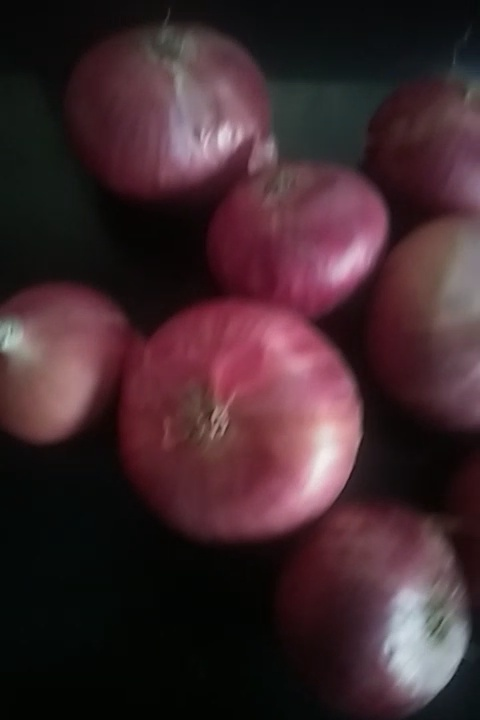onion: (119, 295, 365, 545), (283, 488, 477, 718), (65, 26, 289, 201), (211, 146, 382, 319), (364, 215, 480, 448), (4, 281, 136, 454), (367, 75, 480, 222)
